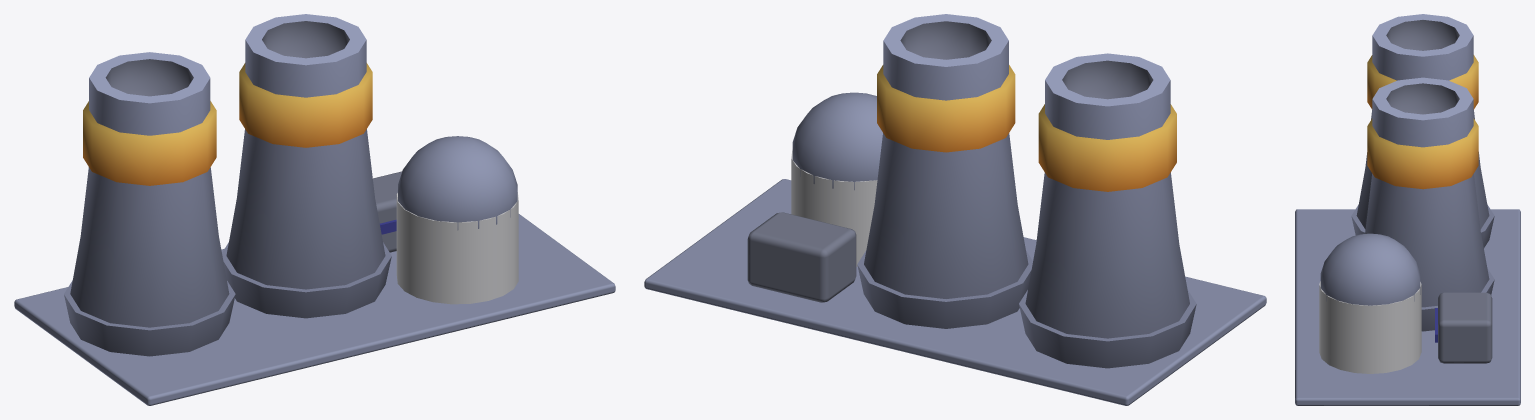
The model's file is usina-nuclear.glb.
3 renders of one model, left to right at view 1: azimuth 30°, elevation 25°; view 2: azimuth 150°, elevation 25°; view 3: azimuth 270°, elevation 25°, orthographic. The views are drawn at different scales.
Visible parts, largest first — view 1: modelo; view 2: modelo; view 3: modelo.
Boxes of the visible parts, x1=… form: modelo: x1=14, y1=14, x2=615, y2=405; modelo: x1=644, y1=14, x2=1266, y2=405; modelo: x1=1295, y1=14, x2=1520, y2=405.
Bounding box in the file's own units: 4.2 × 2.18 × 2.1.
